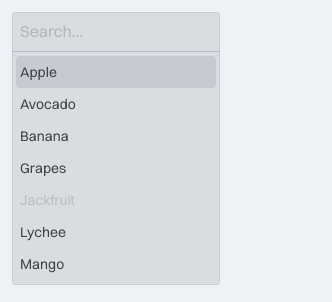
search filter › shows the empty row when nothing matches
In the dropdown: (116, 32) [12, 12, 220, 52], type "zzz"
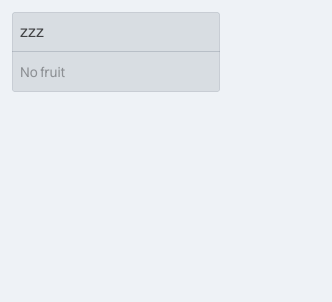
expect no options are shown: met
expect the text "No fruit" is shown: met, box [20, 63, 65, 81]
